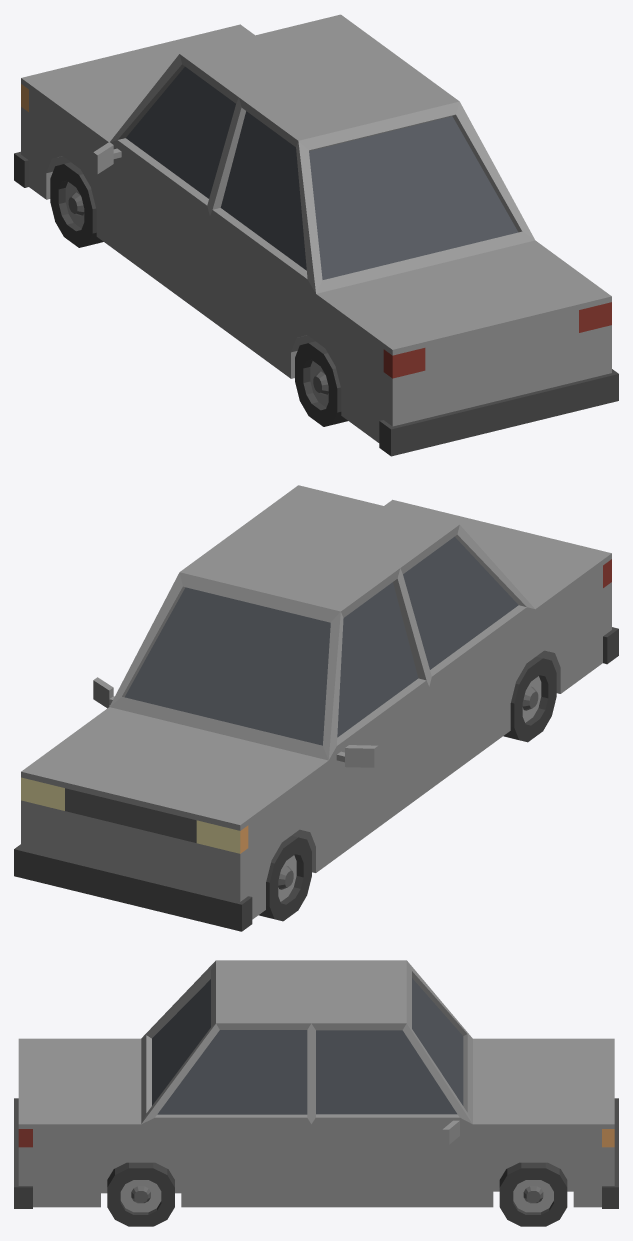
Rendered from car01.fbx.
3 views of the same model, one above another, from view 1: azimuth 30°, elevation 25°; view 2: azimuth 150°, elevation 25°; view 3: azimuth 270°, elevation 25° (orthographic). The views are drawn at different scales.
Visible parts, largest first — view 1: car001, tire02, tire04; view 2: car001, tire04, tire02; view 3: car001, tire01, tire03.
Part boxes in pixels (x1=…): car001: x1=14, y1=14, x2=618, y2=456; tire02: x1=50, y1=162, x2=103, y2=247; tire04: x1=295, y1=341, x2=347, y2=426; car001: x1=14, y1=485, x2=618, y2=931; tire04: x1=503, y1=656, x2=556, y2=742; tire02: x1=259, y1=835, x2=311, y2=921; car001: x1=14, y1=960, x2=618, y2=1208; tire01: x1=499, y1=1162, x2=567, y2=1226; tire03: x1=107, y1=1162, x2=174, y2=1226.
Bounding box in the file's own units: 256 × 596 × 209.
